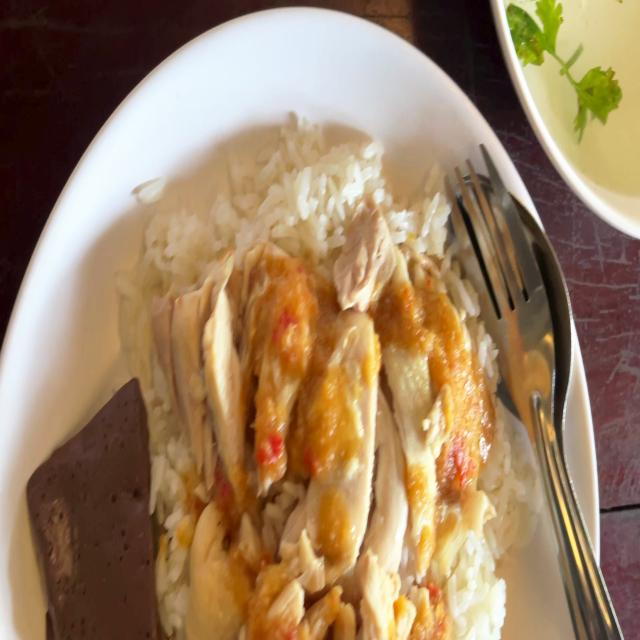boiled_chicken: (152, 244, 474, 636)
boiled_chicken_blood_jelly: (37, 376, 168, 640)
chicken_rice: (42, 109, 495, 640)
